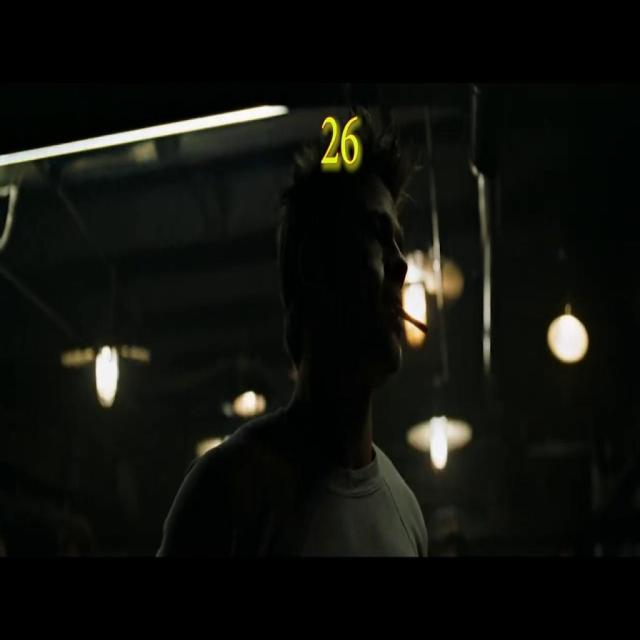smoking: (394, 305, 432, 335)
